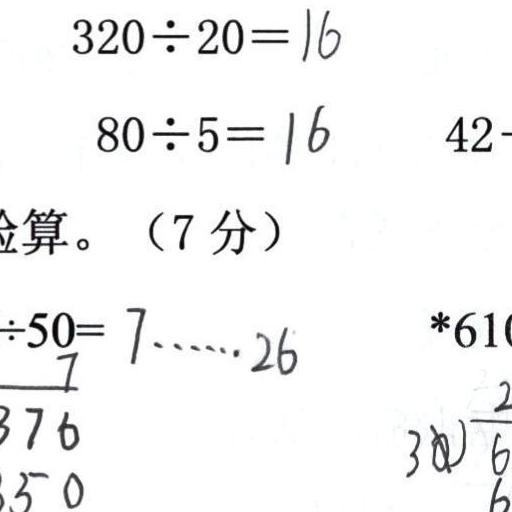ans: (119, 300, 298, 377), (276, 98, 330, 162), (295, 1, 341, 60)
